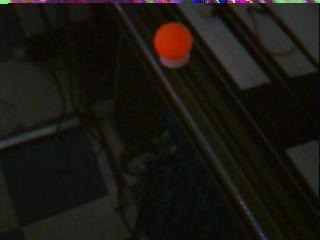oball: (154, 23, 193, 61)
